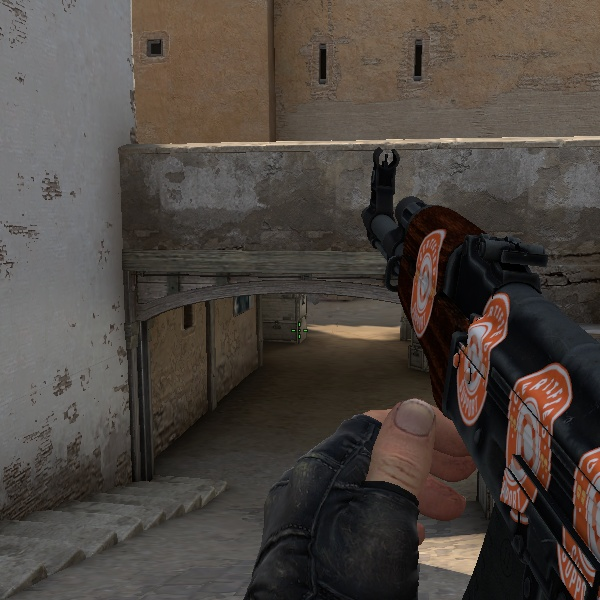t_body: (255, 178, 594, 600)
